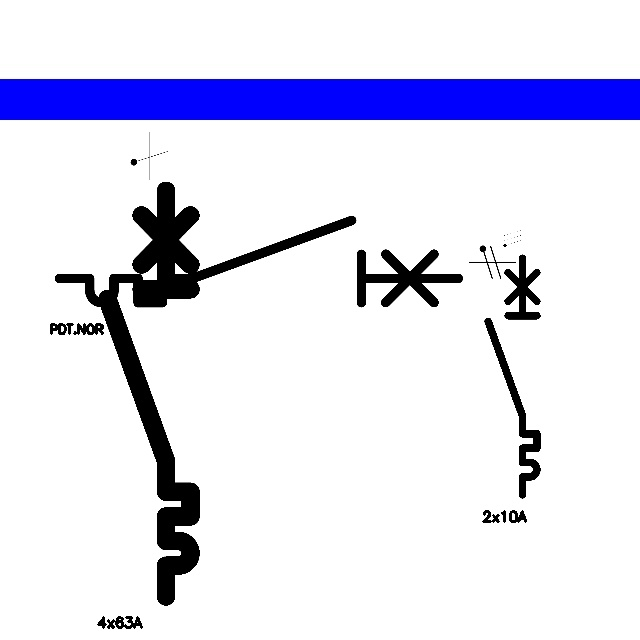interruptor_termomagnetico: (97, 180, 201, 607), (49, 210, 468, 313), (482, 252, 543, 501)
